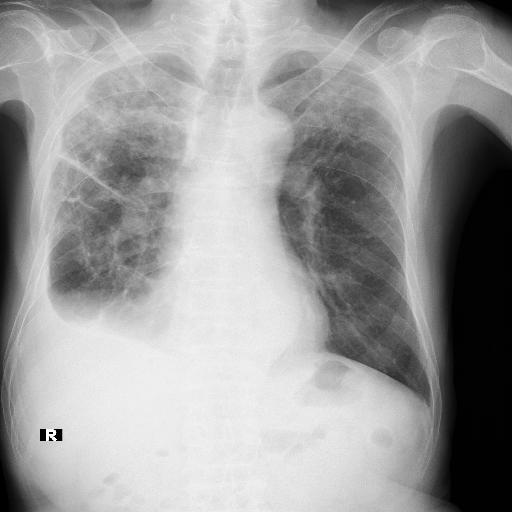Infiltration: (0, 0, 127, 133), (218, 3, 334, 113)
Lung Opacity: (9, 258, 114, 316)
Pleural effusion: (0, 204, 74, 318), (16, 109, 92, 173)
Pleural thickening: (0, 0, 118, 91)
Pulmonary fibrosis: (0, 30, 114, 208), (206, 0, 332, 115), (1, 12, 128, 114)
